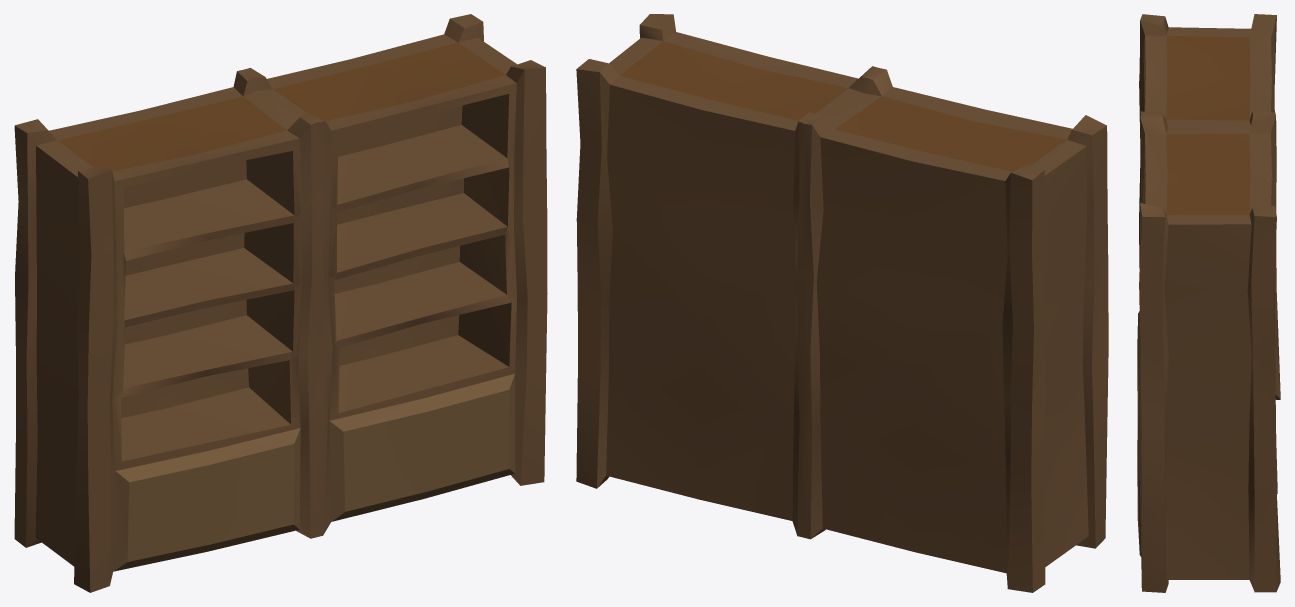
Rendered from RG-Dungeon_Double-Cupboard.fbx.
3 views of the same model, side by side, from view 1: azimuth 30°, elevation 25°; view 2: azimuth 150°, elevation 25°; view 3: azimuth 270°, elevation 25° (orthographic). The views are drawn at different scales.
Parts seen in each view (by area): view 1: RG-Dungeon_Double-Cupboard; view 2: RG-Dungeon_Double-Cupboard; view 3: RG-Dungeon_Double-Cupboard.
Part boxes in pixels (x1,y1,x2,y2): RG-Dungeon_Double-Cupboard: (14, 14, 547, 592); RG-Dungeon_Double-Cupboard: (576, 14, 1108, 592); RG-Dungeon_Double-Cupboard: (1137, 14, 1280, 592).
Size of the model in its own units: 15.27 by 13.26 by 4.55.
